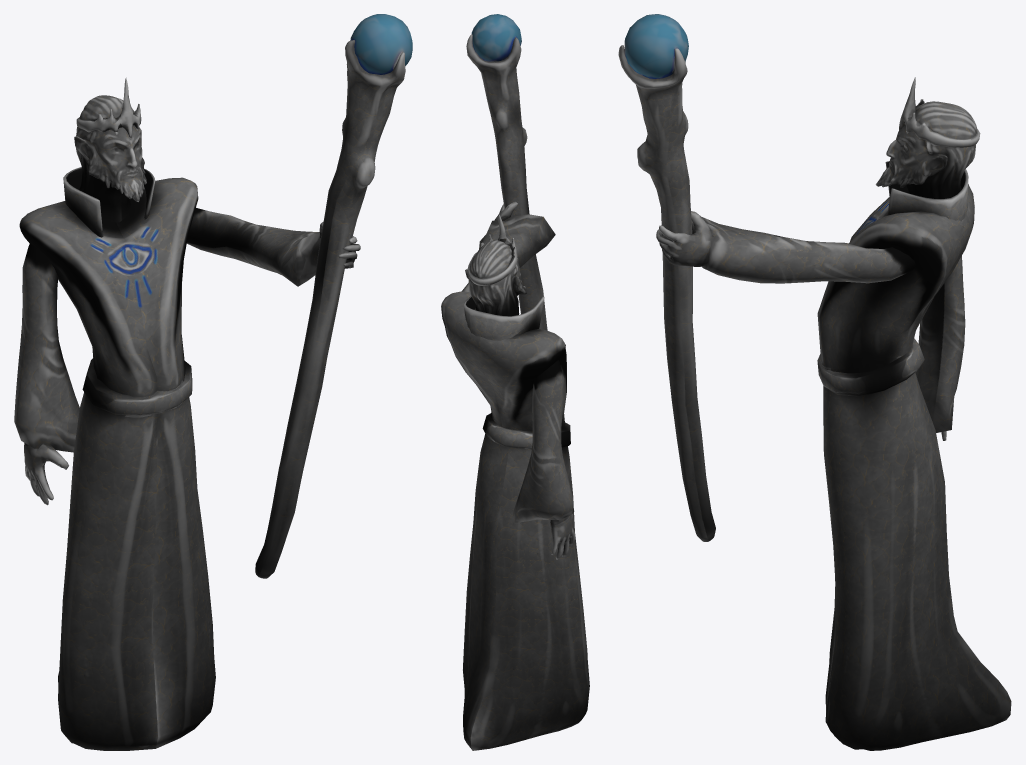
The model's file is Statue 1.fbx.
3 renders of one model, left to right at view 1: azimuth 30°, elevation 25°; view 2: azimuth 150°, elevation 25°; view 3: azimuth 270°, elevation 25°, orthographic. The views are drawn at different scales.
Visible parts, largest first — view 1: Statue_1; view 2: Statue_1; view 3: Statue_1.
Part boxes in pixels (box(x1,y1,x2,y2)): Statue_1: box(14, 14, 412, 750); Statue_1: box(441, 14, 589, 750); Statue_1: box(618, 14, 1011, 750).
Size of the model in its own units: 7.16 by 20.14 by 9.21.
